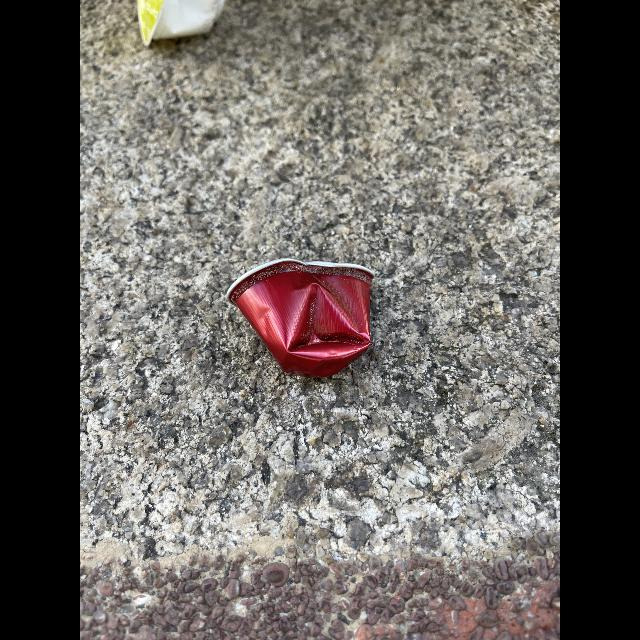damaged_capsule: (224, 252, 386, 374)
